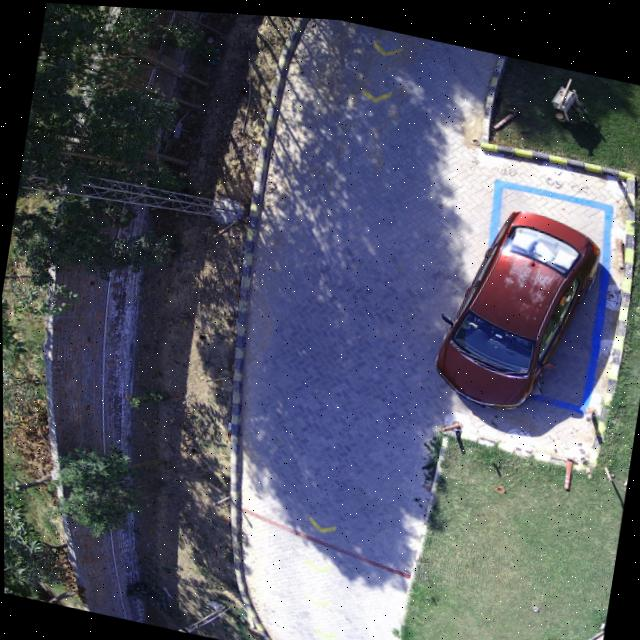car: (435, 202, 601, 405)
